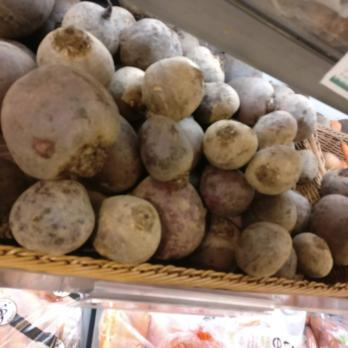beetroot: (3, 1, 133, 253), (132, 40, 245, 276), (252, 75, 296, 283), (302, 144, 348, 269)
